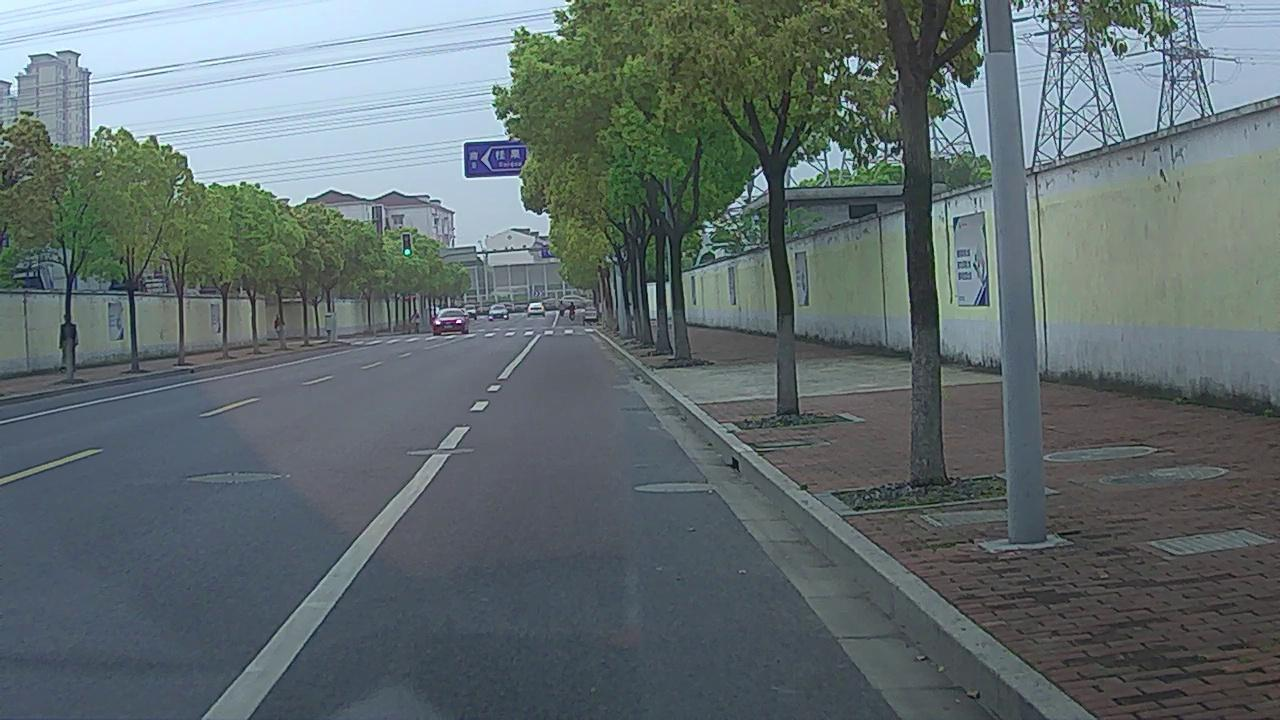traffic_light: (403, 233, 411, 257)
